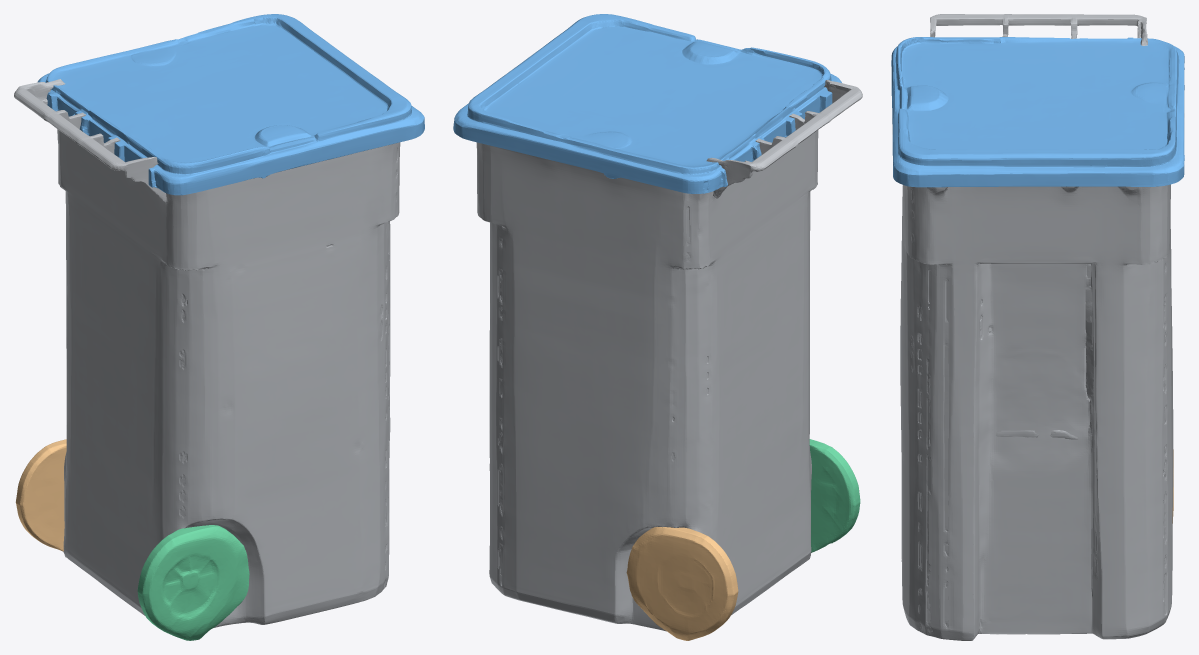
The model's file is parts.glb.
3 renders of one model, left to right at view 1: azimuth 30°, elevation 25°; view 2: azimuth 150°, elevation 25°; view 3: azimuth 270°, elevation 25°, orthographic.
Visible parts, largest first — view 1: visual_0_0, visual_1_0, visual_3_0, visual_2_0; view 2: visual_0_0, visual_1_0, visual_2_0, visual_3_0; view 3: visual_0_0, visual_1_0.
Boxes of the visible parts, x1,y1,x2,y2 form: visual_0_0: [14, 79, 400, 627]; visual_1_0: [37, 14, 424, 195]; visual_3_0: [137, 525, 249, 640]; visual_2_0: [15, 439, 66, 551]; visual_0_0: [476, 80, 862, 631]; visual_1_0: [453, 14, 841, 193]; visual_2_0: [626, 527, 738, 640]; visual_3_0: [809, 439, 860, 552]; visual_0_0: [900, 14, 1173, 640]; visual_1_0: [891, 37, 1184, 187].
Bounding box in the file's own units: 0.627 × 0.9678 × 0.5217.
